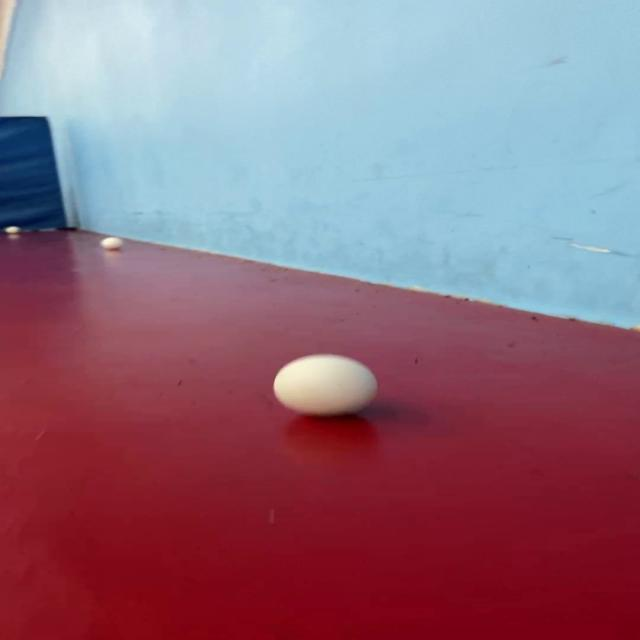ping-pong-ball: (253, 347, 392, 426), (95, 230, 138, 259), (0, 216, 32, 246)
